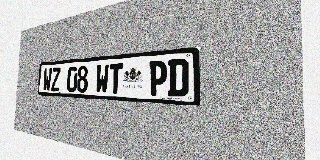0: (66, 66, 77, 92)
8: (76, 65, 88, 93)
D: (167, 58, 189, 97)
P: (148, 60, 167, 96)
T: (108, 63, 123, 94)
W: (95, 64, 109, 93), (43, 68, 52, 91)
Z: (51, 67, 61, 91)
